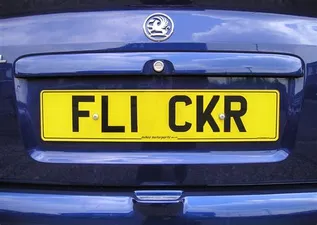number_plate: (36, 85, 292, 156)
